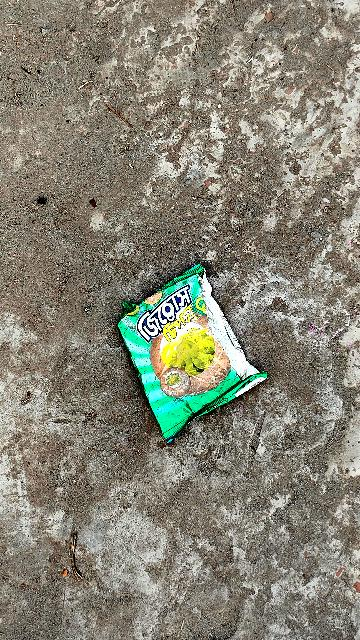packet: (110, 279, 259, 446)
